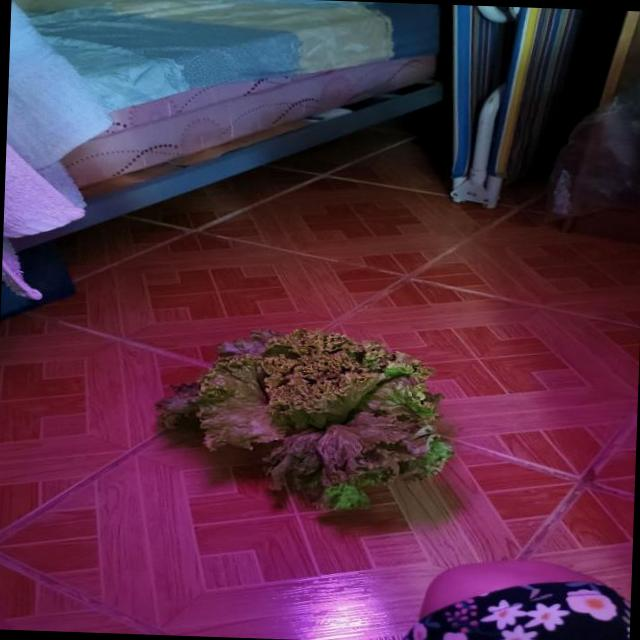Lettuce-Ready-to-Harvest: (158, 328, 452, 509)
